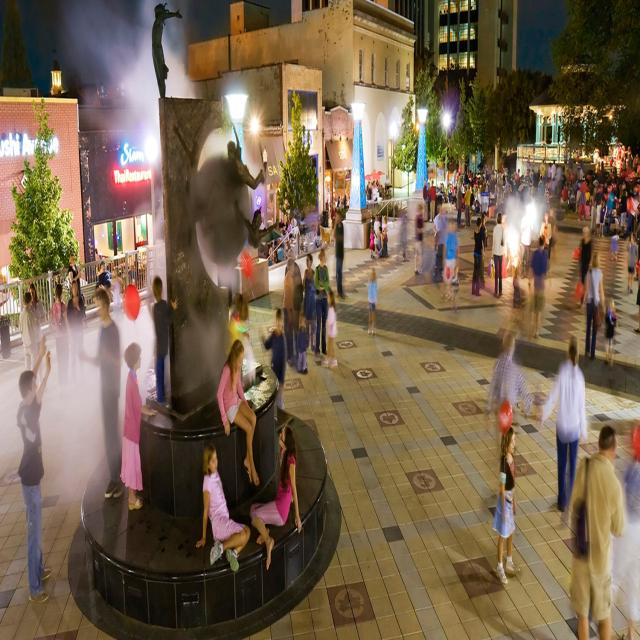body: (568, 418, 628, 639), (14, 330, 53, 606), (77, 285, 127, 500), (537, 328, 590, 522), (249, 422, 303, 572), (216, 117, 270, 267), (194, 440, 252, 575), (608, 411, 640, 639), (215, 338, 260, 490), (119, 340, 158, 512), (491, 424, 521, 587), (487, 330, 533, 418), (144, 0, 182, 103), (152, 274, 179, 407), (579, 247, 606, 362), (261, 306, 288, 410), (528, 234, 552, 342), (49, 284, 71, 394), (66, 278, 86, 382), (284, 247, 303, 351), (313, 248, 329, 358), (18, 291, 38, 372), (283, 258, 296, 367), (302, 253, 316, 353), (576, 225, 592, 310), (601, 294, 619, 369), (470, 216, 486, 298), (491, 212, 506, 298), (331, 208, 345, 300), (322, 288, 338, 368), (519, 201, 535, 280), (592, 143, 624, 180), (432, 204, 447, 277), (228, 292, 252, 334), (443, 218, 459, 278), (493, 210, 506, 282), (413, 202, 425, 275), (28, 282, 46, 328), (540, 212, 552, 280), (296, 314, 309, 375), (367, 266, 378, 336), (626, 232, 638, 294), (66, 252, 82, 298), (479, 212, 488, 285), (116, 249, 136, 280), (633, 248, 640, 336), (606, 181, 618, 227), (577, 174, 588, 224), (98, 259, 114, 290), (375, 224, 388, 258), (472, 167, 491, 190), (451, 264, 460, 312), (548, 207, 556, 260), (512, 264, 522, 306), (590, 186, 598, 234), (609, 227, 620, 261), (401, 211, 408, 263), (428, 179, 436, 224), (568, 176, 578, 212), (456, 181, 463, 229), (464, 182, 471, 230), (634, 190, 640, 246), (477, 182, 486, 218), (599, 198, 607, 238), (624, 170, 640, 190), (314, 223, 322, 260), (628, 189, 635, 231), (575, 155, 585, 183), (620, 188, 627, 227), (368, 225, 376, 259), (530, 167, 538, 200), (445, 184, 457, 206), (422, 178, 428, 221), (496, 171, 504, 203), (426, 181, 432, 223), (560, 183, 569, 211), (488, 173, 496, 204), (330, 200, 338, 230), (313, 219, 321, 249), (382, 214, 388, 254), (596, 197, 602, 237), (94, 247, 101, 280), (556, 161, 563, 193), (542, 176, 552, 198), (520, 173, 532, 190), (624, 145, 634, 165), (371, 178, 381, 198), (444, 166, 450, 197), (451, 166, 458, 192), (550, 176, 557, 202), (285, 240, 292, 264), (290, 214, 297, 238), (575, 178, 582, 202), (510, 169, 516, 196), (566, 152, 572, 178), (619, 181, 628, 198), (598, 180, 606, 199), (384, 173, 390, 198), (503, 174, 509, 199), (560, 167, 566, 192), (627, 151, 633, 176), (539, 158, 546, 178), (341, 193, 350, 208), (551, 159, 557, 181), (619, 181, 627, 197), (268, 241, 274, 262), (277, 243, 284, 261), (373, 214, 380, 232), (286, 219, 292, 239), (548, 161, 552, 191), (474, 190, 479, 214), (463, 169, 468, 193), (470, 193, 476, 212), (278, 217, 286, 231), (526, 154, 531, 176), (515, 168, 520, 190), (564, 154, 568, 179), (438, 182, 442, 205), (274, 250, 280, 265), (336, 195, 342, 209), (466, 165, 471, 181), (366, 180, 370, 199), (441, 182, 445, 200), (538, 175, 544, 187), (588, 170, 592, 188), (285, 215, 289, 231), (635, 152, 638, 172), (468, 169, 472, 178), (282, 228, 286, 236)
